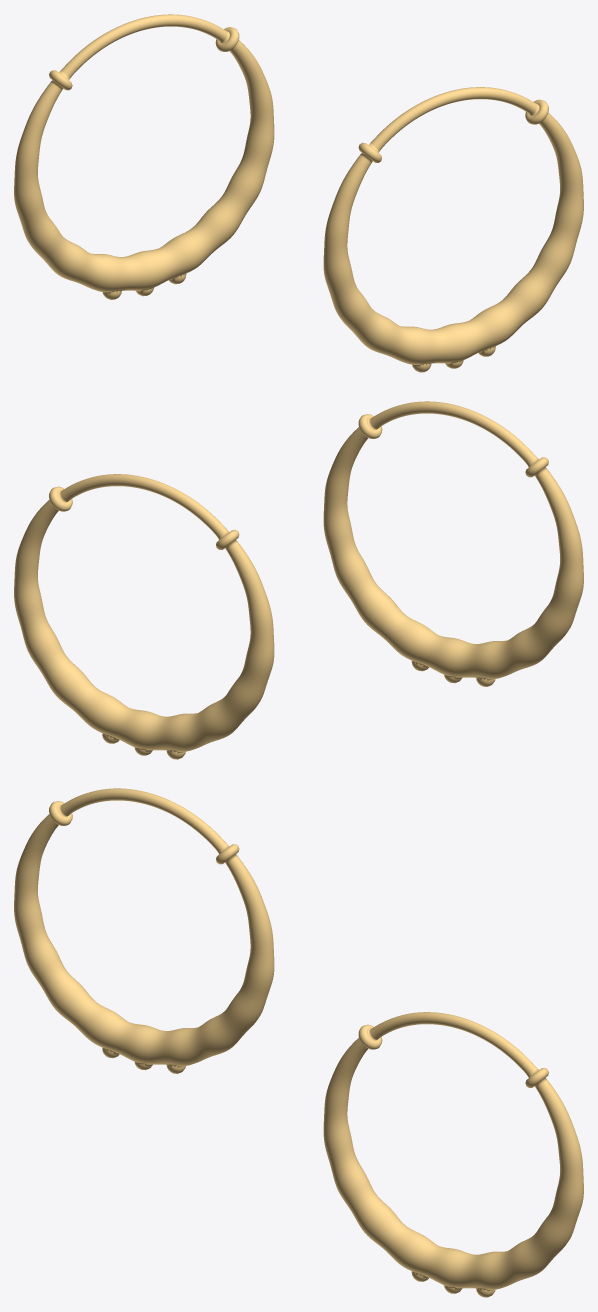
Rendered from earring_bali_hoop.glb.
3 views of the same model, one above another, from view 1: azimuth 30°, elevation 25°; view 2: azimuth 150°, elevation 25°; view 3: azimuth 330°, elevation 25° (orthographic).
Parts seen in each view (by area): view 1: gold_pair, gold; view 2: gold_pair, gold; view 3: gold_pair, gold.
Boxes of the visible parts, box(x1,y1,x2,y2) form: gold_pair: box(323, 87, 583, 372); gold: box(14, 14, 274, 299); gold_pair: box(14, 474, 274, 759); gold: box(323, 401, 583, 686); gold_pair: box(323, 1012, 583, 1297); gold: box(14, 788, 274, 1073).
Size of the model in its own units: 0.0432 by 0.031 by 0.00257.
